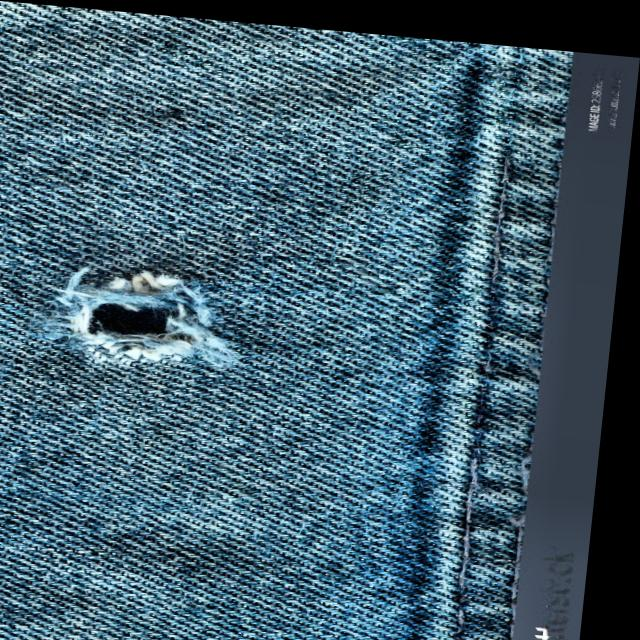Hole: (39, 241, 264, 384)
